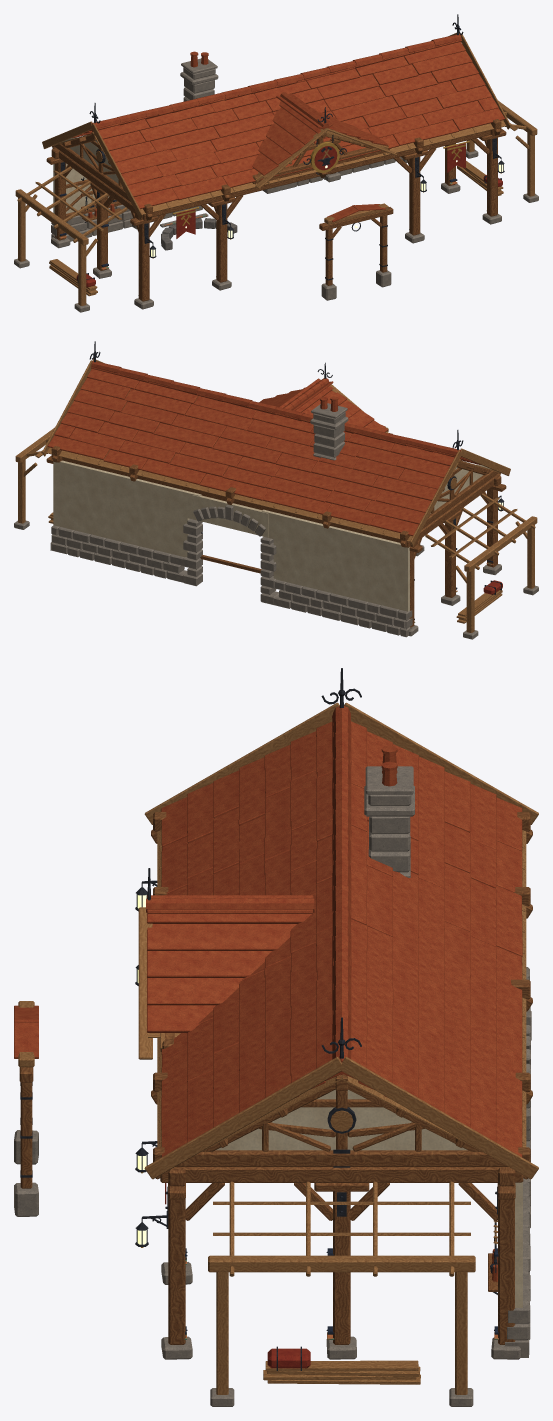
File: main_hall.glb
3 views of the same model, one above another, from view 1: azimuth 30°, elevation 25°; view 2: azimuth 150°, elevation 25°; view 3: azimuth 270°, elevation 25° (orthographic). The views are drawn at different scales.
Visible parts, largest first — view 1: Shell_Roof_Tiles, Shell_Posts, Shell_FrontGable, Kit_ExpansionFrame_West, Shell_Plates_Ties, Shell_Ridge_Finials, Kit_EntryArch, Shell_GableEnds, Kit_ExpansionFrame_East, Shell_RearWall_Stone, Shell_Chimney, Shell_Braces_Joinery (+6 smaller); view 2: Shell_Roof_Tiles, Shell_RearWall_Frame, Shell_RearWall_Stone, Kit_ExpansionFrame_West, Shell_Plates_Ties, Shell_Ridge_Finials, Shell_Posts, Shell_FrontGable, Shell_GableEnds, Shell_Chimney, Kit_ExpansionFrame_East, Shell_Trusses; view 3: Shell_Roof_Tiles, Shell_GableEnds, Shell_FrontGable, Kit_ExpansionFrame_East, Shell_Plates_Ties, Shell_Posts, Shell_Ridge_Finials, Shell_Chimney, Kit_EntryArch, Shell_Trusses, Shell_RearWall_Stone, Shell_Braces_Joinery (+1 smaller).
Part boxes in pixels (<box>): Shell_Roof_Tiles: <box>53,39,506,214</box>; Shell_Posts: <box>46,128,506,309</box>; Shell_FrontGable: <box>252,92,396,188</box>; Kit_ExpansionFrame_West: <box>14,166,127,312</box>; Shell_Plates_Ties: <box>51,119,501,220</box>; Shell_Ridge_Finials: <box>89,14,463,131</box>; Kit_EntryArch: <box>319,203,393,300</box>; Shell_GableEnds: <box>42,32,510,219</box>; Kit_ExpansionFrame_East: <box>457,100,538,202</box>; Shell_RearWall_Stone: <box>51,156,402,241</box>; Shell_Chimney: <box>180,51,218,101</box>; Shell_Braces_Joinery: <box>61,138,489,236</box>; Shell_Roof_Tiles: <box>46,367,499,541</box>; Shell_RearWall_Frame: <box>53,460,409,611</box>; Shell_RearWall_Stone: <box>50,505,412,637</box>; Kit_ExpansionFrame_West: <box>425,493,538,639</box>; Shell_Plates_Ties: <box>51,446,501,547</box>; Shell_Ridge_Finials: <box>89,341,463,458</box>; Shell_Posts: <box>46,455,506,636</box>; Shell_FrontGable: <box>259,362,388,433</box>; Shell_GableEnds: <box>42,359,510,546</box>; Shell_Chimney: <box>310,396,348,460</box>; Kit_ExpansionFrame_East: <box>14,427,54,529</box>; Shell_Trusses: <box>52,455,500,547</box>; Shell_Roof_Tiles: <box>157,715,526,1157</box>; Shell_GableEnds: <box>144,702,538,1179</box>; Shell_FrontGable: <box>138,868,314,1059</box>; Kit_ExpansionFrame_East: <box>208,1181,475,1406</box>; Shell_Plates_Ties: <box>153,812,530,1186</box>; Shell_Posts: <box>161,1183,521,1359</box>; Shell_Ridge_Finials: <box>321,668,361,1074</box>; Shell_Chimney: <box>364,745,414,877</box>; Kit_EntryArch: <box>14,1001,38,1216</box>; Shell_Trusses: <box>151,829,532,1179</box>; Shell_RearWall_Stone: <box>505,967,531,1357</box>; Shell_Braces_Joinery: <box>185,1183,497,1220</box>.
Size of the model in its own units: 22.03 by 8.58 by 10.99.
Materials: 12 (12 with a texture image).
